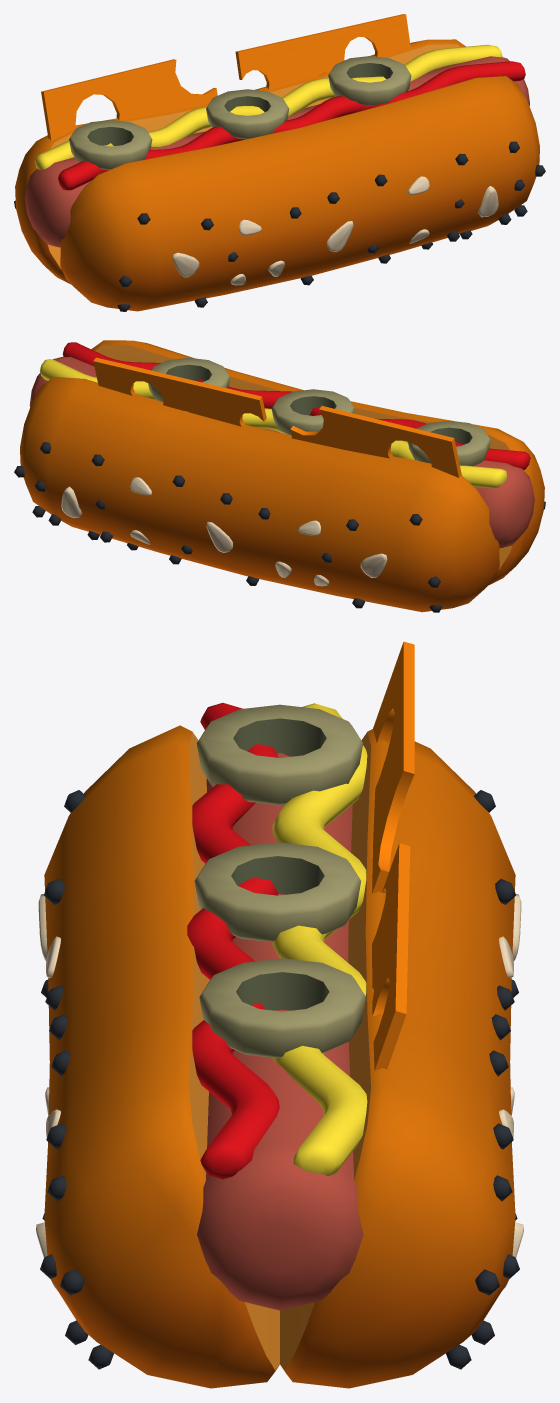
Rendered from HotDog_bun_05.fbx.
The picture shows the model from 3 angles, top to bottom: view 1: azimuth 30°, elevation 25°; view 2: azimuth 150°, elevation 25°; view 3: azimuth 270°, elevation 25°; orthographic projection. The views are drawn at different scales.
Parts seen in each view (by area): view 1: HotDog_bun_05; view 2: HotDog_bun_05; view 3: HotDog_bun_05.
Part boxes in pixels (bbox=[...]): HotDog_bun_05: bbox=[14, 14, 545, 311]; HotDog_bun_05: bbox=[14, 340, 545, 612]; HotDog_bun_05: bbox=[36, 641, 523, 1388].
Bounding box in the file's own units: 160 × 69.97 × 61.23.
